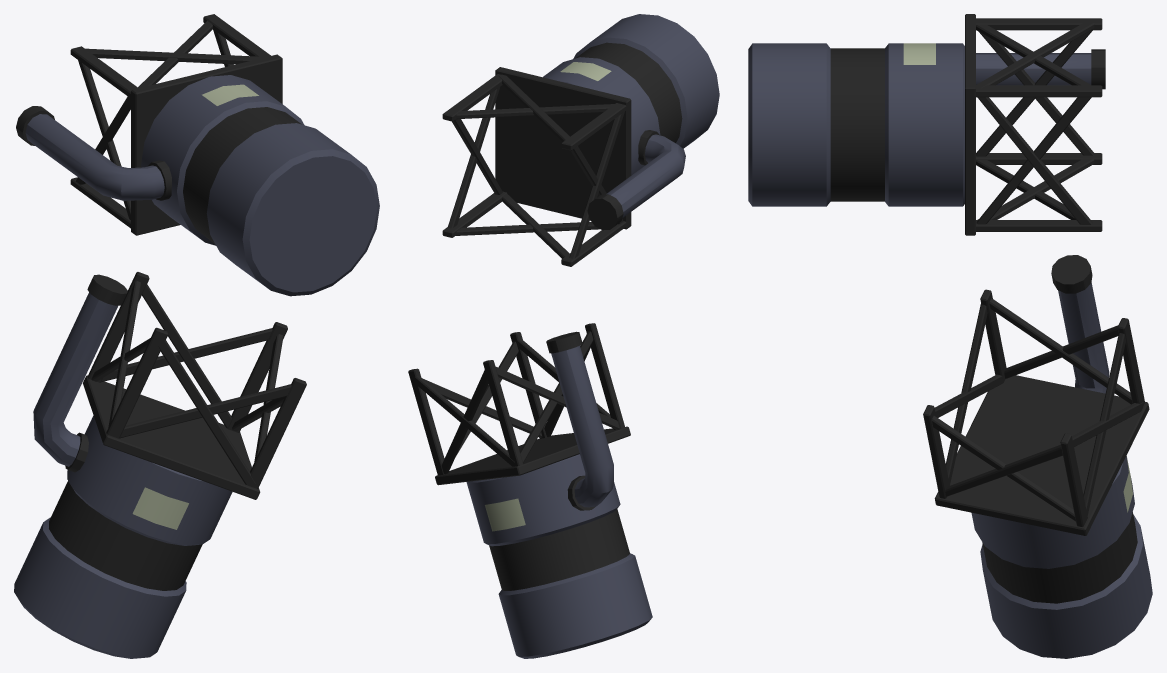
The model's file is Watertank platform.obj.
3 views of the same model, side by side, from view 1: azimuth 30°, elevation 25°; view 2: azimuth 150°, elevation 25°; view 3: azimuth 270°, elevation 25° (orthographic). The views are drawn at different scales.
Parts seen in each view (by area): view 1: WaterTank_Platform; view 2: WaterTank_Platform; view 3: WaterTank_Platform.
Part boxes in pixels (x1,y1,x2,y2): WaterTank_Platform: (14, 14, 379, 658); WaterTank_Platform: (408, 14, 719, 658); WaterTank_Platform: (748, 14, 1152, 658).
Bounding box in the file's own units: 0.3086 × 0.6684 × 0.3984.
